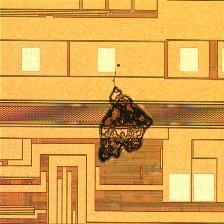PARTICLE: (100, 62, 156, 164)
